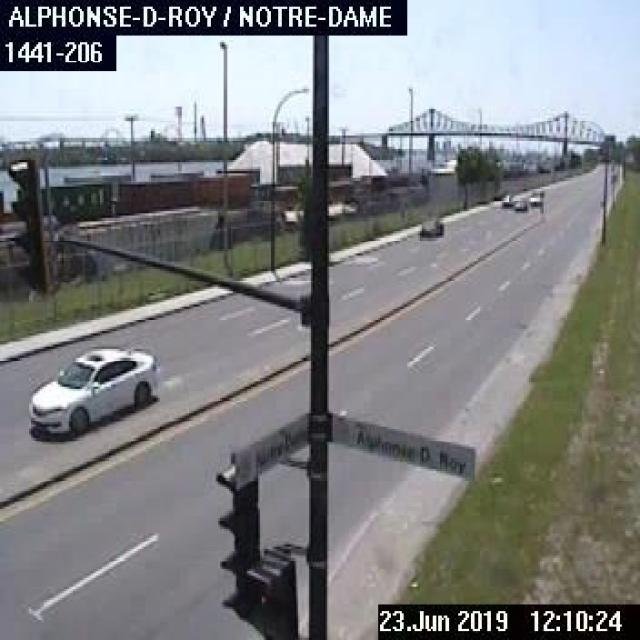vehicle: (24, 342, 160, 436), (418, 216, 442, 236), (510, 194, 526, 211), (527, 189, 542, 205), (500, 193, 511, 207)
